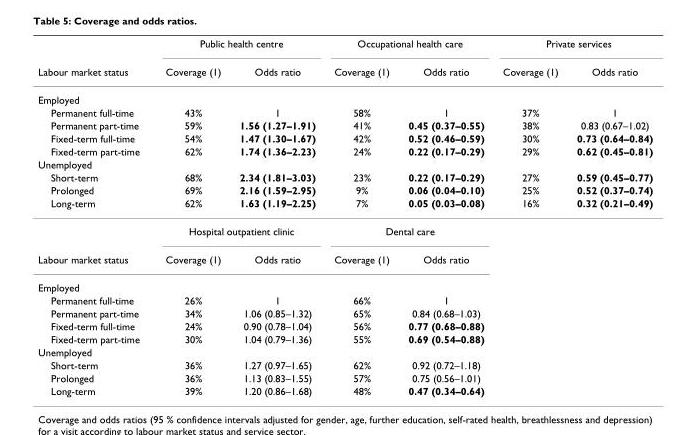table: (37, 37, 652, 396)
table column: (37, 37, 151, 396), (229, 37, 324, 396), (398, 37, 492, 396), (566, 37, 652, 396), (151, 37, 229, 396), (324, 37, 398, 396), (492, 37, 566, 396)
table column header: (37, 37, 652, 85)
table projected row header: (37, 272, 652, 293), (37, 85, 652, 105), (37, 157, 652, 170), (37, 345, 652, 358)
table row: (37, 57, 652, 85), (37, 216, 652, 244), (37, 244, 652, 272), (37, 272, 652, 293), (37, 37, 652, 57), (37, 85, 652, 105), (37, 196, 652, 216), (37, 105, 652, 118), (37, 118, 652, 131), (37, 131, 652, 144), (37, 144, 652, 157), (37, 157, 652, 170), (37, 170, 652, 183), (37, 183, 652, 196), (37, 293, 652, 306), (37, 306, 652, 319), (37, 319, 652, 332), (37, 332, 652, 345), (37, 345, 652, 358), (37, 358, 652, 371), (37, 371, 652, 384), (37, 384, 652, 396)
table spanning cell: (37, 37, 151, 85), (37, 196, 151, 244), (151, 216, 324, 244), (324, 216, 492, 244), (151, 37, 324, 57), (324, 37, 492, 57), (492, 37, 652, 57)
